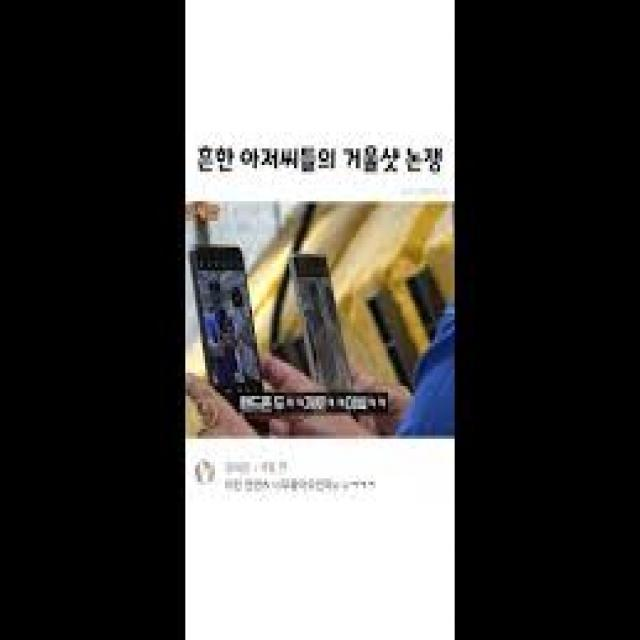Phone: (188, 248, 272, 426), (288, 249, 362, 394)
